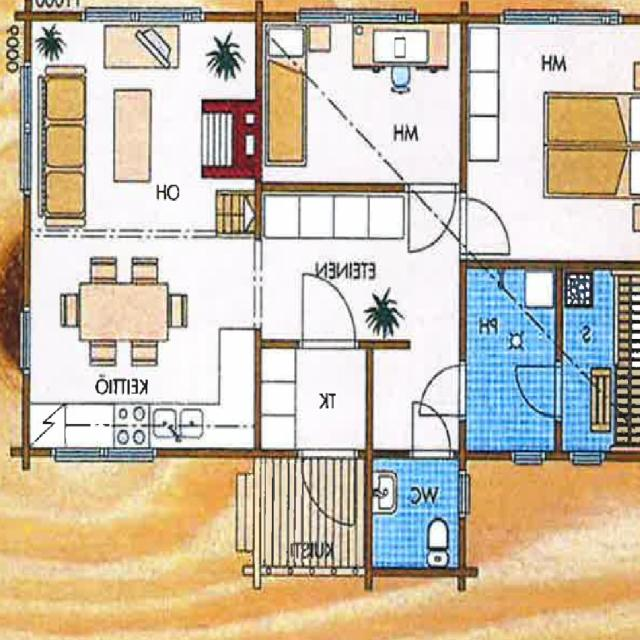door: (302, 266, 358, 346), (304, 450, 355, 525), (407, 184, 454, 252), (456, 198, 509, 255), (514, 368, 564, 421), (415, 363, 464, 416), (412, 401, 451, 462)
